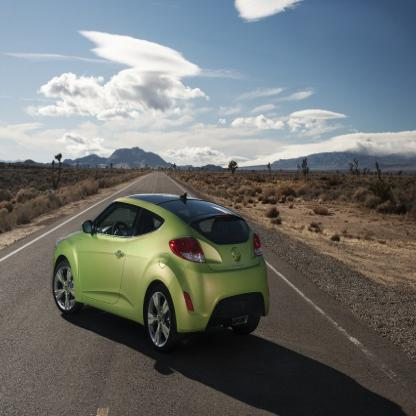Vehicle: (44, 177, 276, 364)
